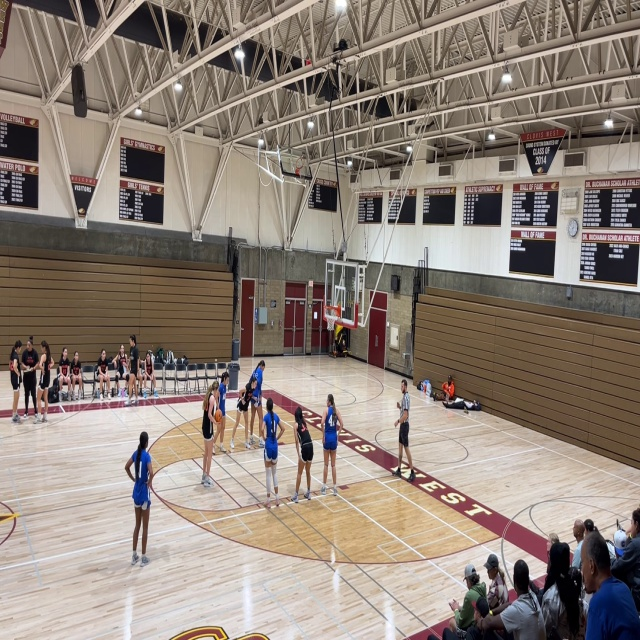Basketball: (214, 409, 223, 423)
